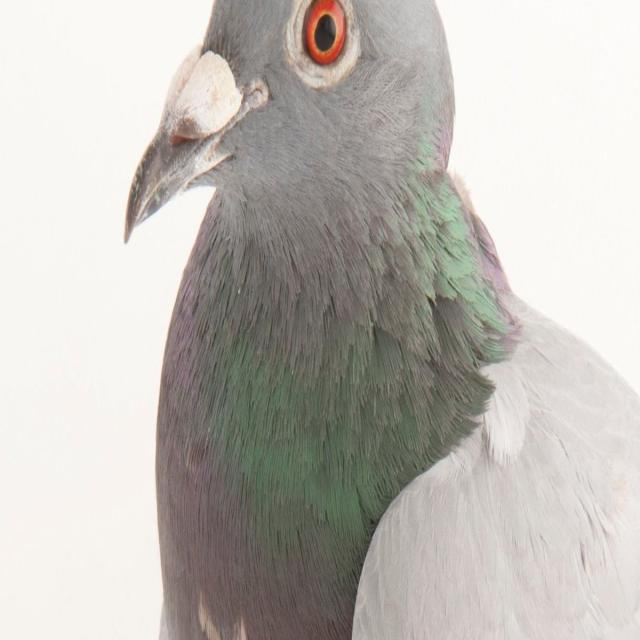Pigeon: (117, 0, 640, 640)
